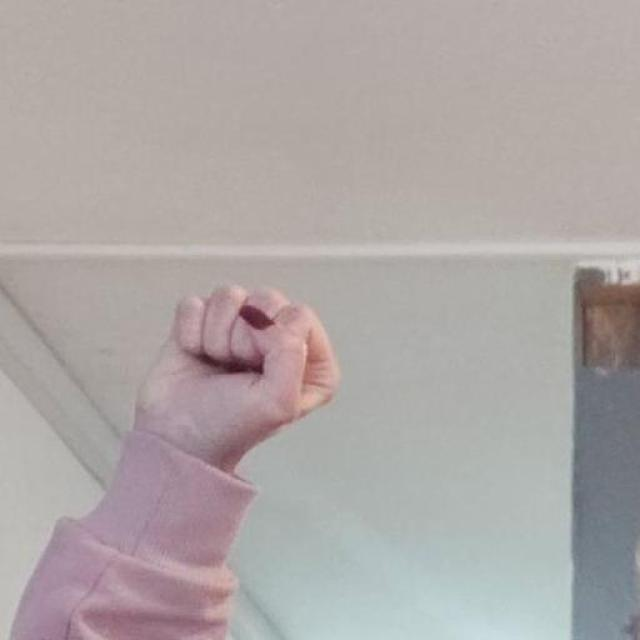hand: (130, 280, 340, 472)
